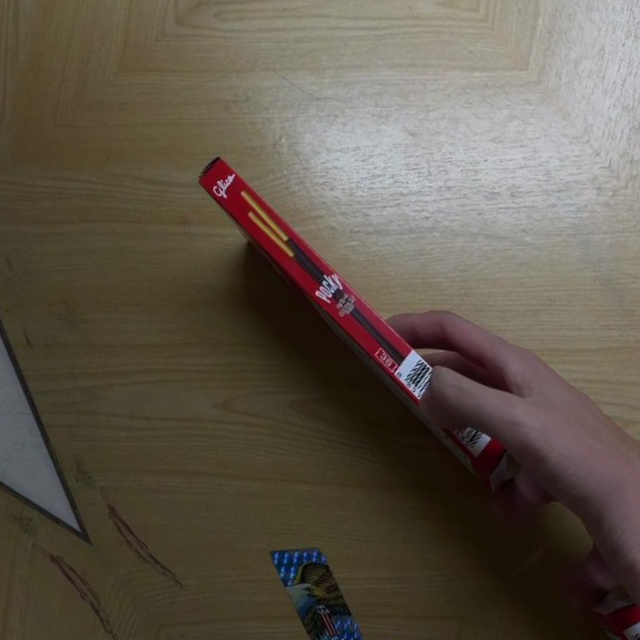Pocky: (190, 130, 522, 507)
